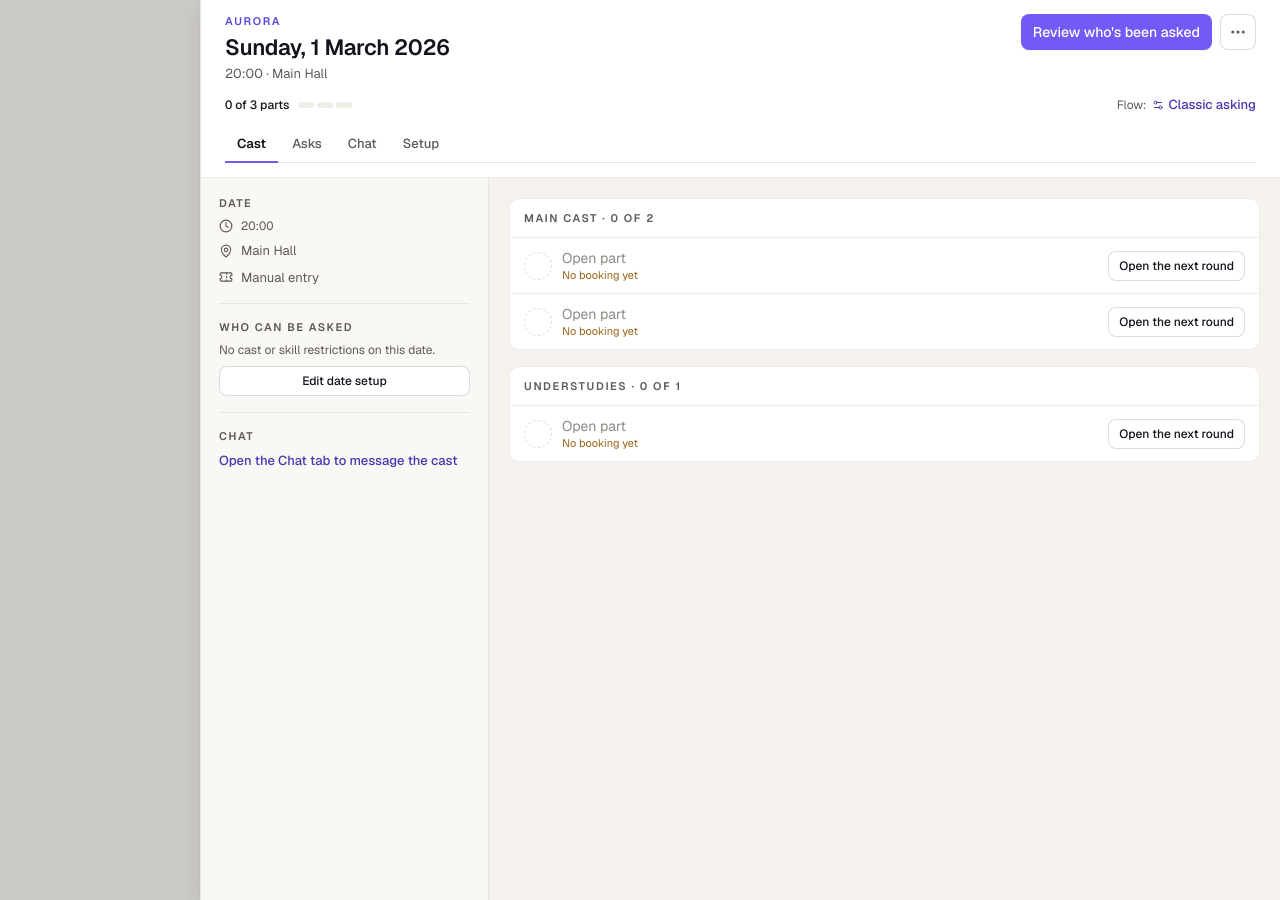
Test case: ShowDateDetailSheet capability gates › hard_delete_show_dates off: Delete control is absent, Cancel date still available
Click the button "Setup" at (421, 145), box x1=391 y1=127 x2=451 y2=163
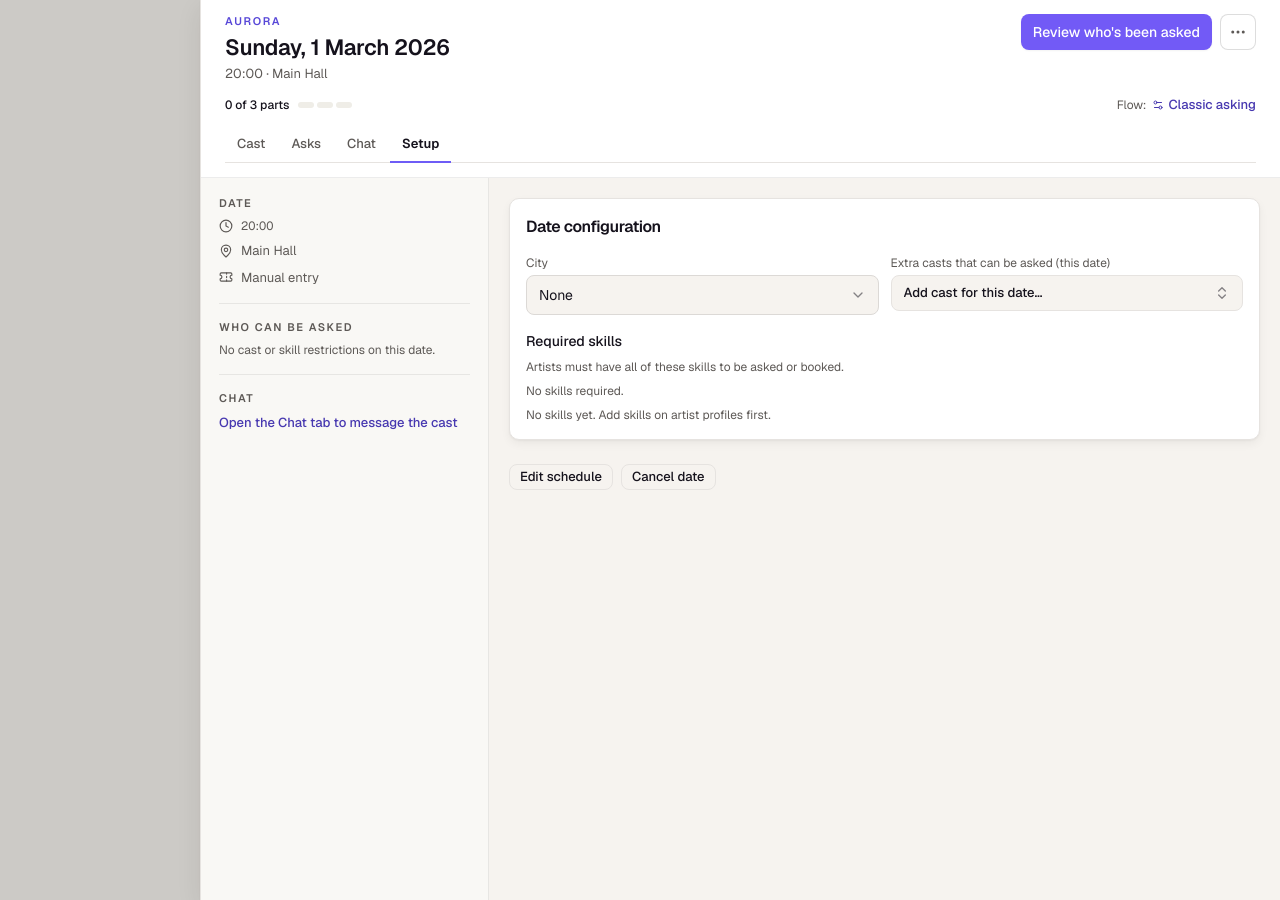
expect the button "Cancel date" is shown: met, box x1=621 y1=464 x2=716 y2=490
